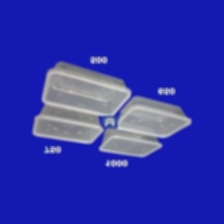plastic_box: (36, 56, 137, 121), (113, 92, 196, 142), (26, 99, 108, 149), (93, 122, 167, 162)
